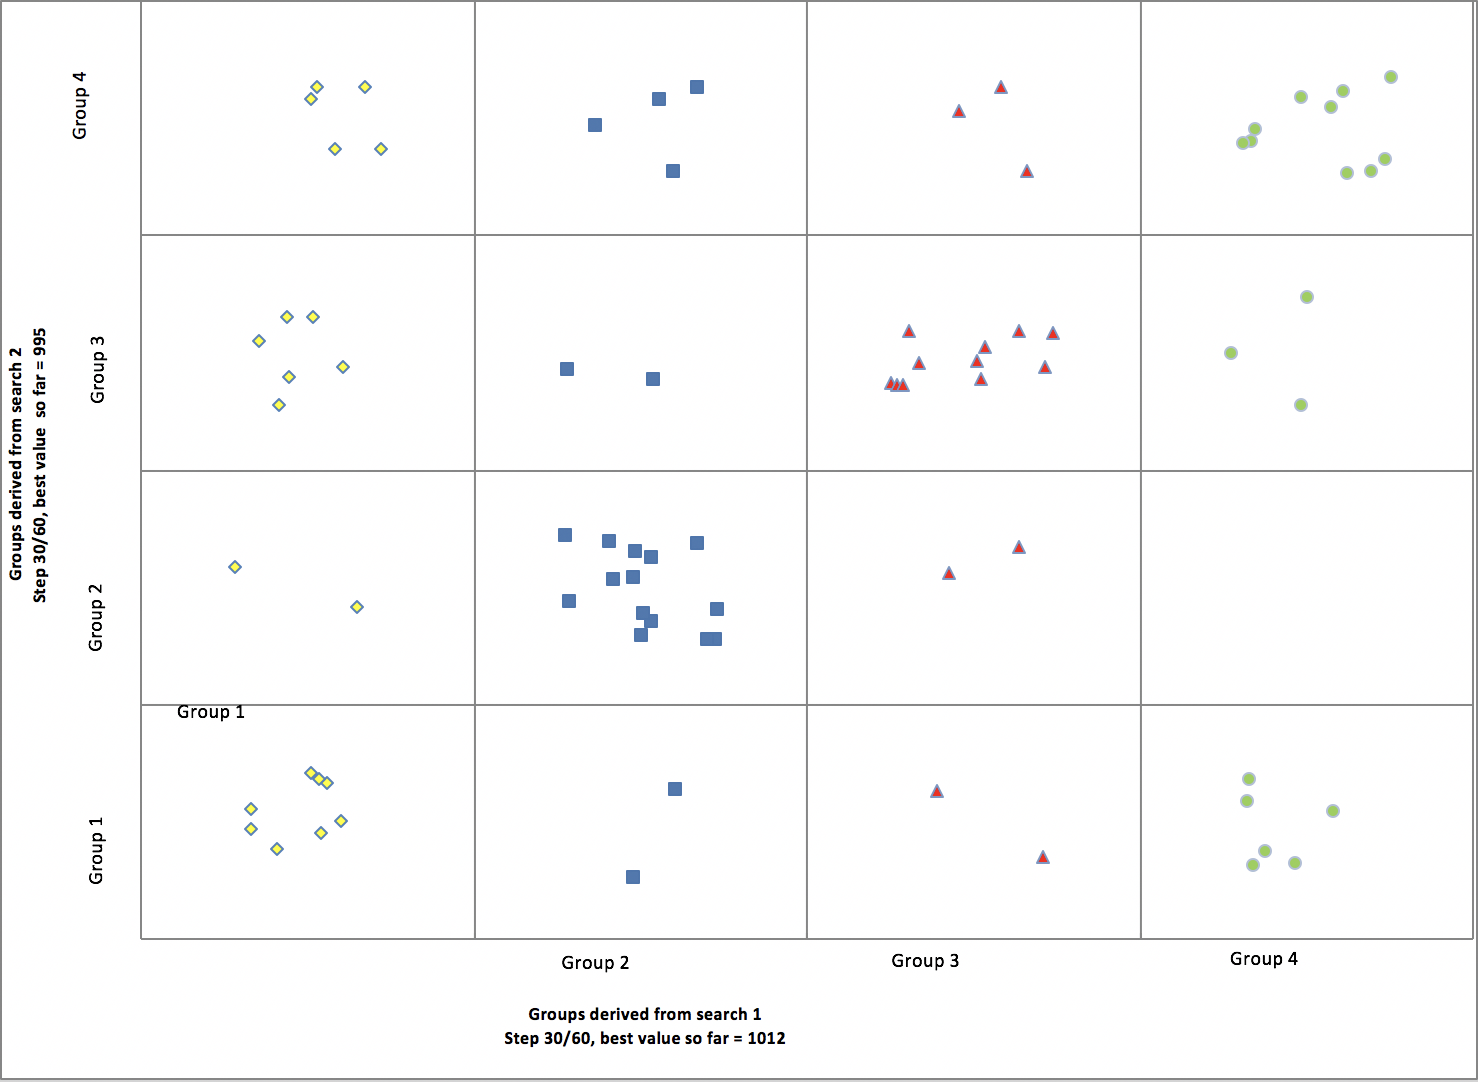

The page's visual inventory and layout, read from the dashboard file:
{"tool":"tableau","page":{"name":"Dashboard 1","canvas":[1000,800],"ordinal":0},"visuals":[{"type":"legend","title":"Final","param":"[federated.1h8yqih1srk2rd10cdt2412b9bpr].[sum:New search start point:ok]","box":[8,8,589,50]},{"type":"legend","title":"new search","param":"[federated.1ouksrj0tcjws51aeyqxq08s5r9s].[sum:New search start point:ok]","box":[597,8,197.5,50]},{"type":"legend","title":"old search","param":"[federated.1ouksrj0tcjws51aeyqxq08s5r9s].[sum:Original search start point:ok]","box":[794.5,8,197.5,50]},{"type":"worksheet","title":"Final","mark":"Automatic","rows":["Original search start point"],"cols":["New search start point"],"box":[8,58,984,324]},{"type":"worksheet","title":"new search","mark":"Circle","rows":["Calculation_7032511572812300293"],"cols":["New search start point"],"box":[8,382,246,205]},{"type":"worksheet","title":"Project 1","mark":"Circle","rows":["Contribution ProjGroup 1"],"cols":["Satisfaction ProjGroup 1"],"box":[254,382,349,205]},{"type":"worksheet","title":"Project 2","mark":"Circle","rows":["Satisfaction ProjGroup 2"],"cols":["Contribution ProjGroup 2"],"box":[603,382,389,205]},{"type":"worksheet","title":"old search","mark":"Circle","rows":["Calculation_7032511572822601734"],"cols":["Original search start point"],"box":[8,587,246,205]},{"type":"worksheet","title":"Project 3","mark":"Circle","rows":["Satisfaction ProjGroup 3"],"cols":["Contribution ProjGroup 3"],"box":[254,587,349,205]},{"type":"worksheet","title":"Project 4","mark":"Circle","rows":["Satisfaction ProjGroup 4"],"cols":["Contribution ProjGroup 4"],"box":[603,587,389,205]}]}

Visuals, with their boxes on the page's 1000x800 design canvas (x1, y1, x2, y2). These are canvas units, not pixel positions in the 1478x1082 screenshot, which may show the page scaled, cropped or inside an application window:
"Final" legend: pyautogui.locateOnScreen(8, 8, 597, 58)
"new search" legend: pyautogui.locateOnScreen(597, 8, 794, 58)
"old search" legend: pyautogui.locateOnScreen(794, 8, 992, 58)
"Final" worksheet: pyautogui.locateOnScreen(8, 58, 992, 382)
"new search" worksheet (Circle marks): pyautogui.locateOnScreen(8, 382, 254, 587)
"Project 1" worksheet (Circle marks): pyautogui.locateOnScreen(254, 382, 603, 587)
"Project 2" worksheet (Circle marks): pyautogui.locateOnScreen(603, 382, 992, 587)
"old search" worksheet (Circle marks): pyautogui.locateOnScreen(8, 587, 254, 792)
"Project 3" worksheet (Circle marks): pyautogui.locateOnScreen(254, 587, 603, 792)
"Project 4" worksheet (Circle marks): pyautogui.locateOnScreen(603, 587, 992, 792)
